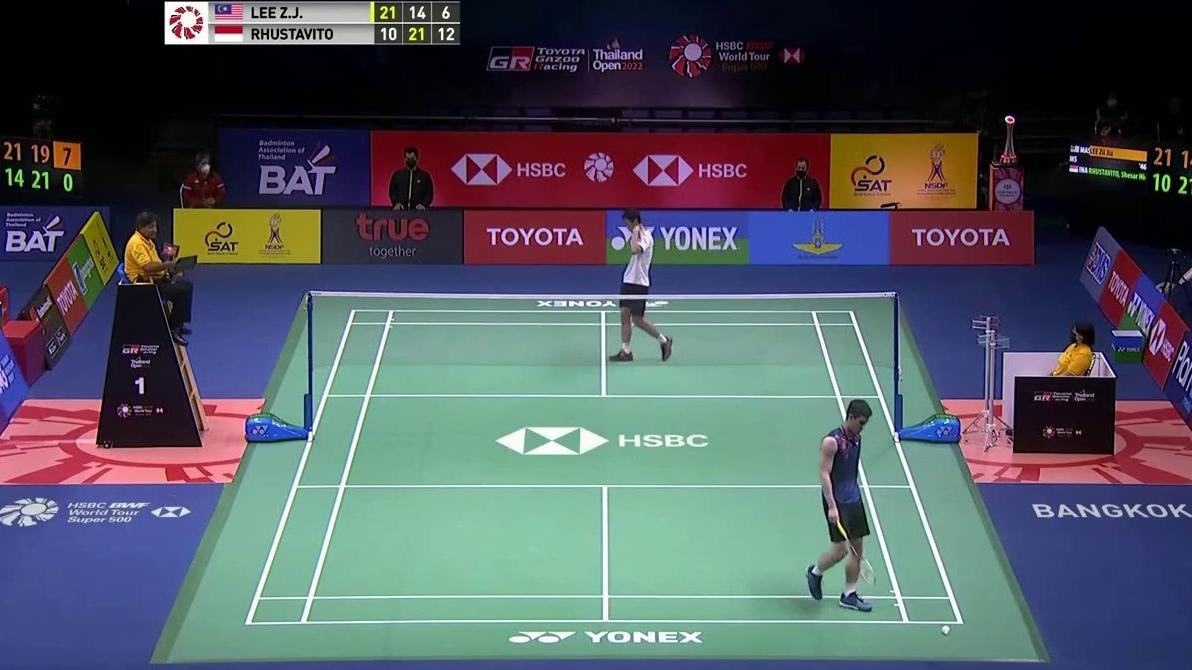racket: (832, 517, 879, 589)
shuttle: (940, 625, 952, 638)
